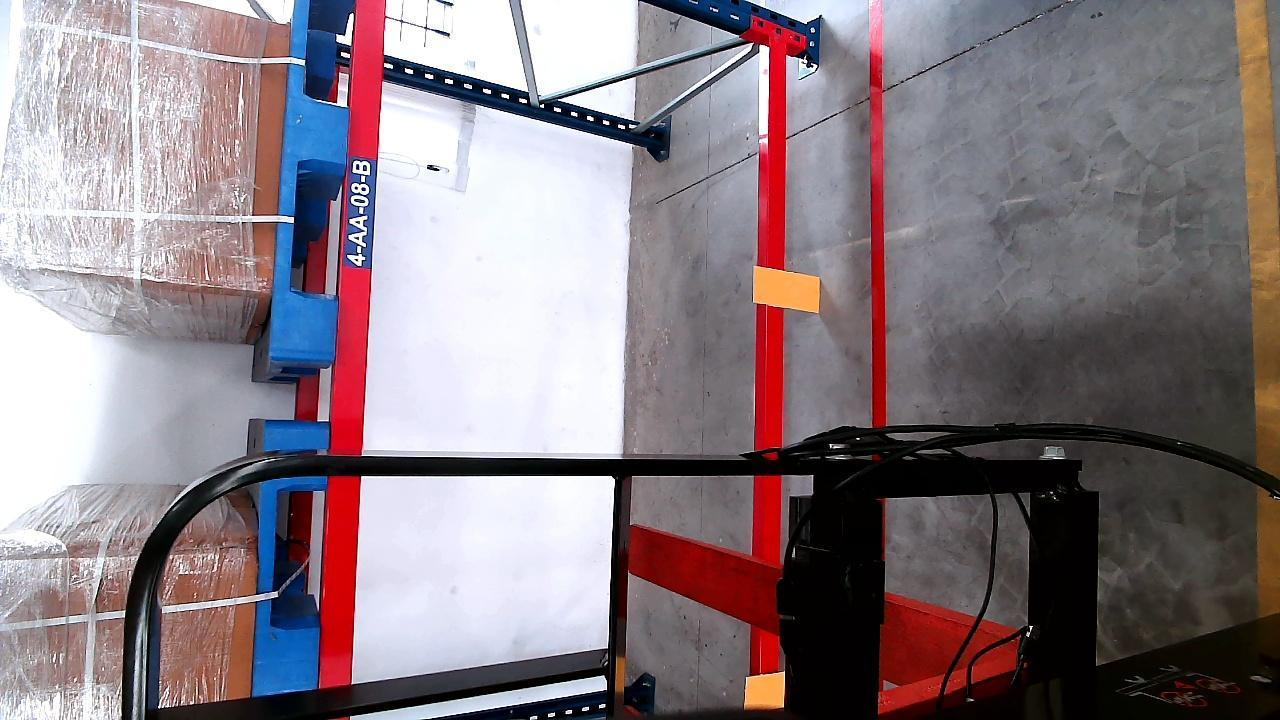h_rack: (320, 0, 385, 686), (747, 21, 791, 719)
orange_strip: (755, 267, 822, 310), (744, 669, 784, 710)
red_line: (866, 12, 890, 420)
small_pallet: (266, 0, 352, 363), (255, 432, 330, 693)
yellow_line: (1243, 0, 1280, 632)
